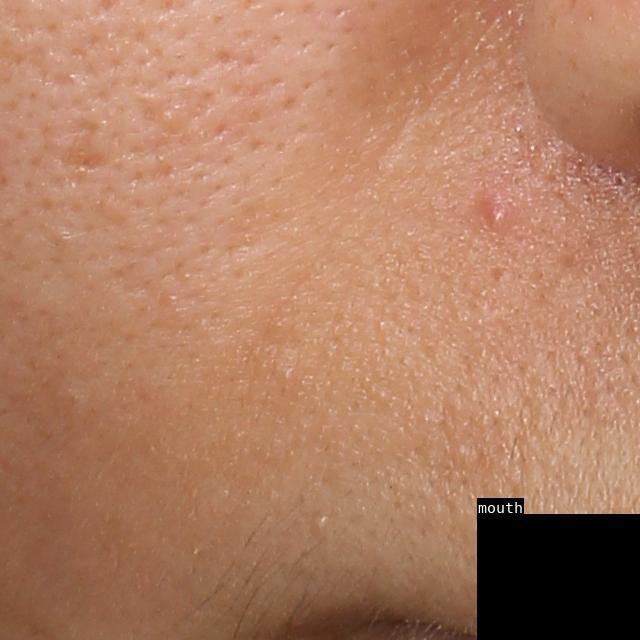atrophic_scar: (60, 140, 116, 175)
comedo: (305, 514, 331, 535)
papule: (477, 202, 516, 232)
